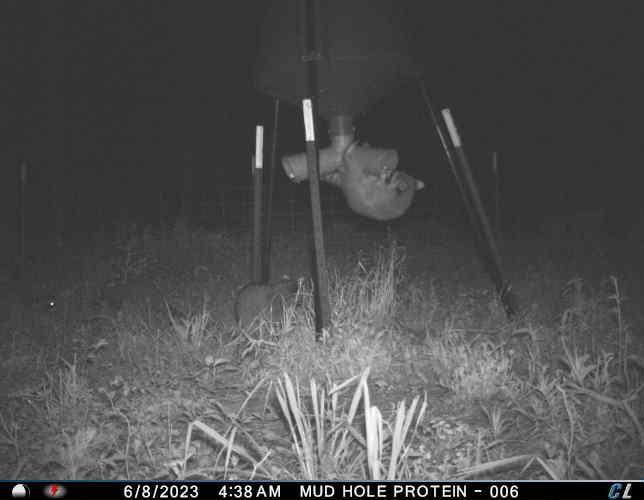Raccoon: (321, 136, 429, 224), (231, 271, 304, 336)
